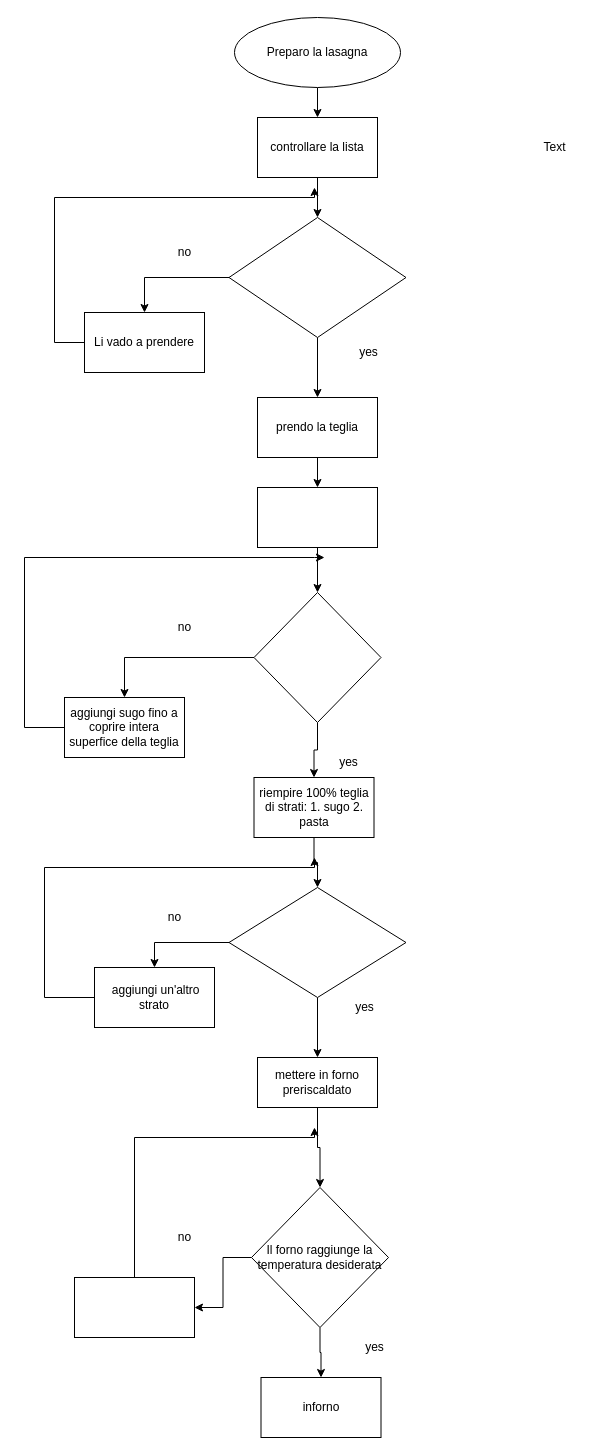
The diagram is 592 pixels wide and 1455 high, and some of its shapes have lost their labels. Each missing label, with the centre of its shape:
"ci sono tutti gli ingrdienti della lista, in casa?" belongs at point (317, 277).
"HAI RIEMPITO LA TEGLIA DI STRATI?" belongs at point (317, 942).
"il sugo copre superfice teglia" belongs at point (317, 657).
"se il forno non è a temperatura aspetto" belongs at point (134, 1307).
"Ungere la teglia con olio e sugo" belongs at point (317, 517).
